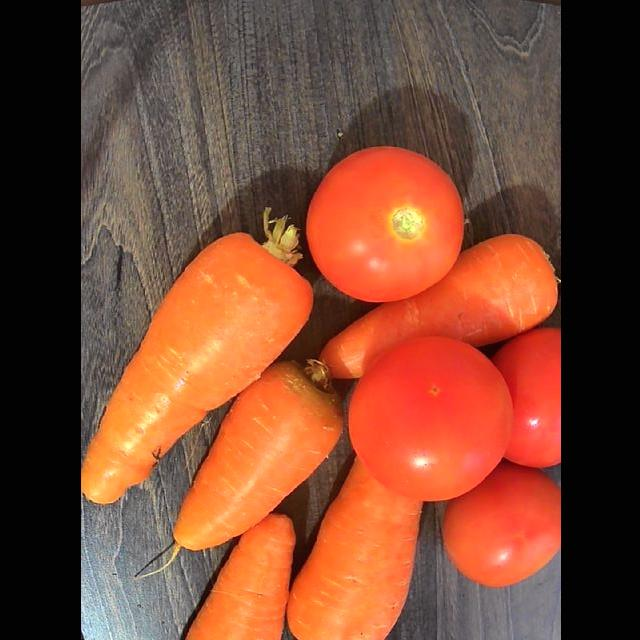tomate: (348, 337, 512, 501), (306, 147, 463, 300), (442, 461, 560, 587), (492, 328, 560, 467)
zanahoria: (81, 209, 312, 503), (319, 235, 556, 377), (173, 359, 343, 554), (287, 458, 420, 639), (185, 514, 295, 639)
